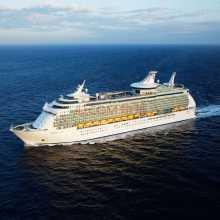youlun: (6, 65, 199, 145)
